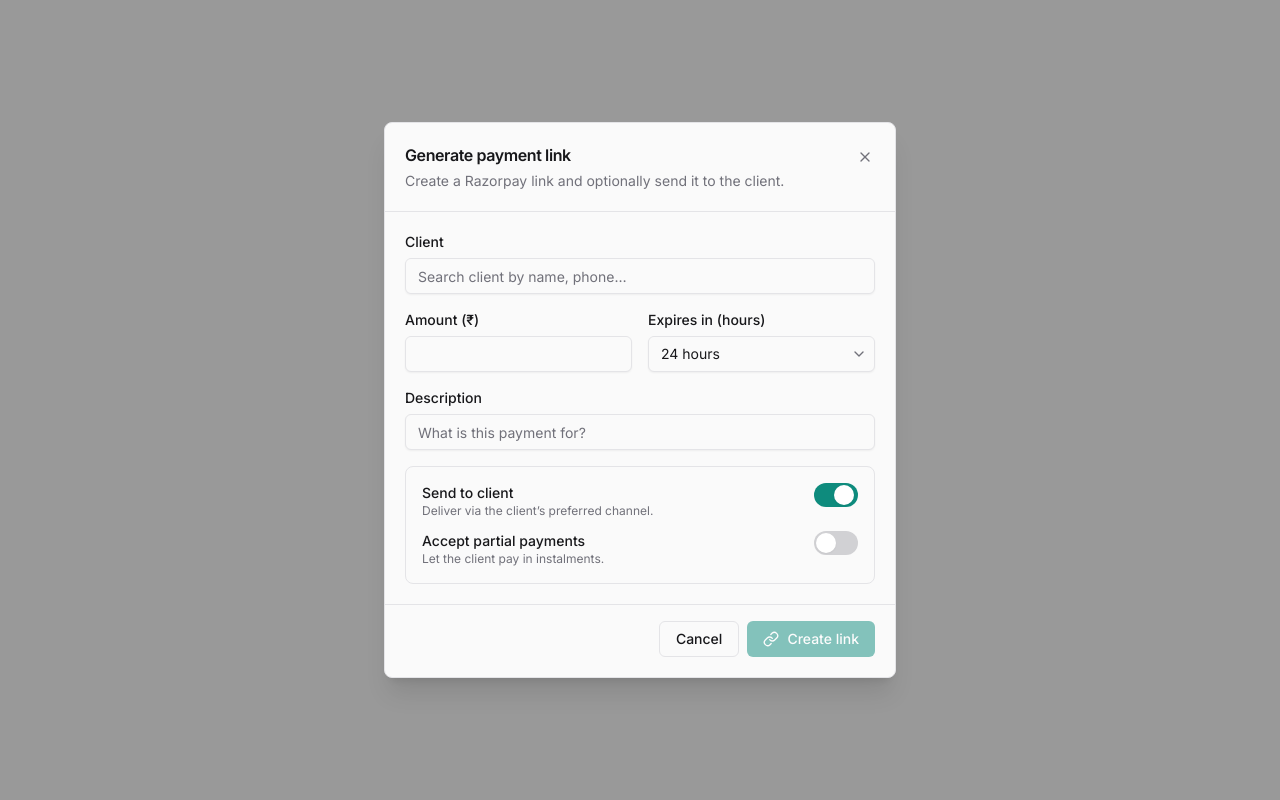
CreatePaymentLinkModal › replaces the picker with the chosen client, and Change puts it back
Type "as" into the field with placeholder "Search client by name, phone…" at (640, 276), box [405,258,875,294]
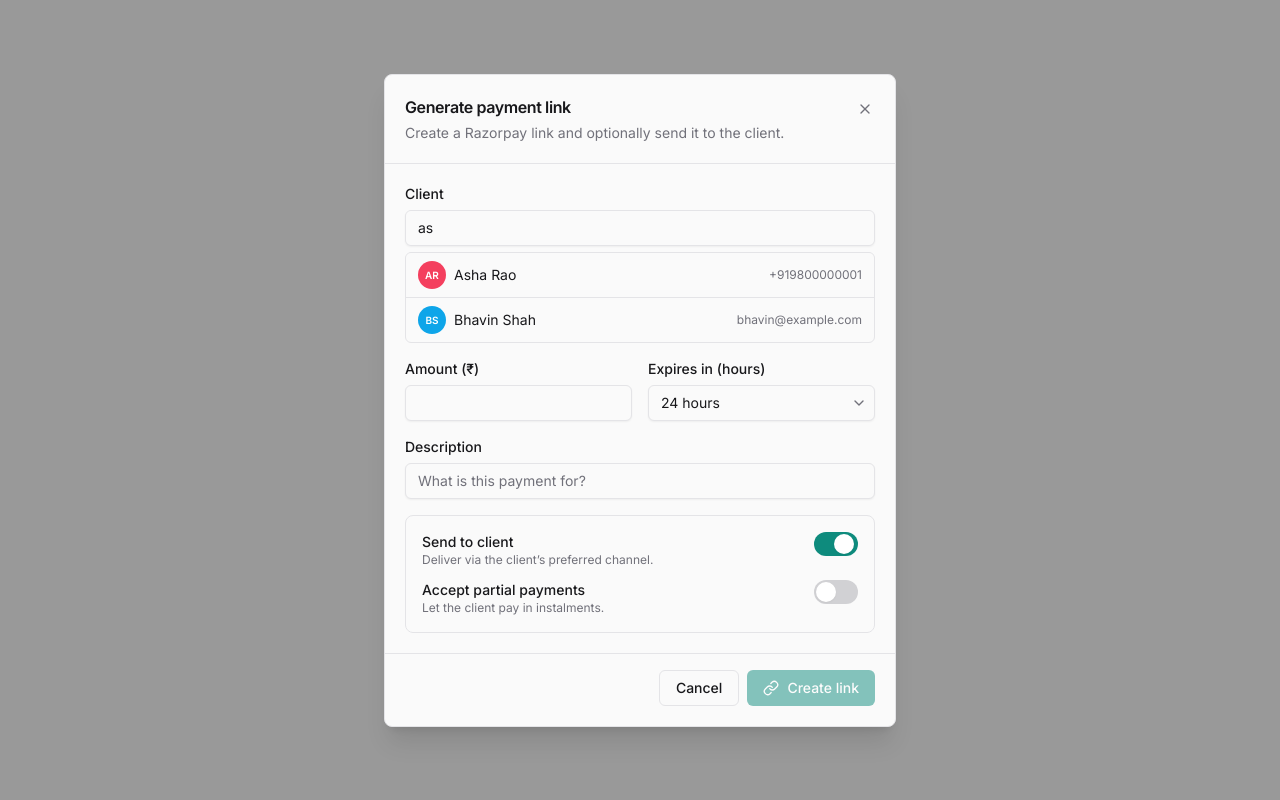
Click the text "Asha Rao" at (485, 274), box [454,264,516,284]
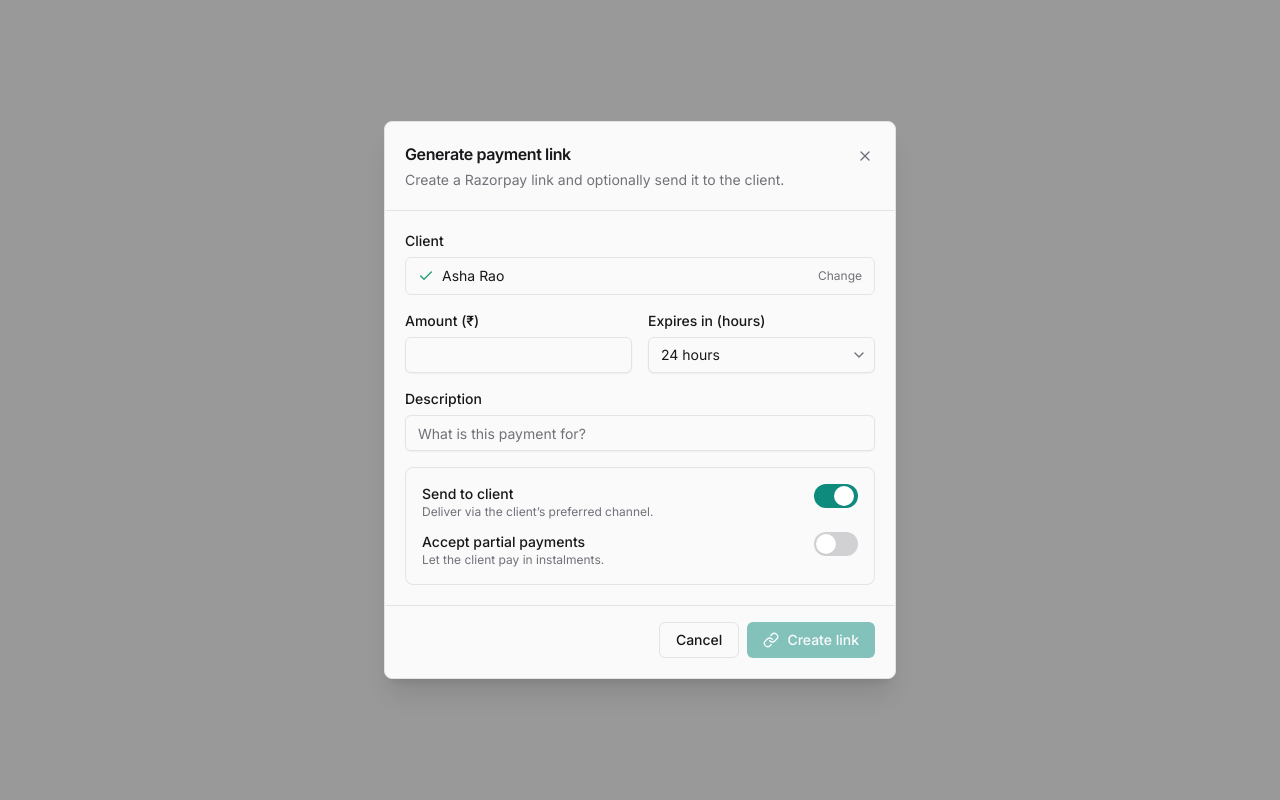
Expected: the field with placeholder "Search client by name, phone…" is not shown
Click the button "Change" at (840, 276), box [818,268,862,284]
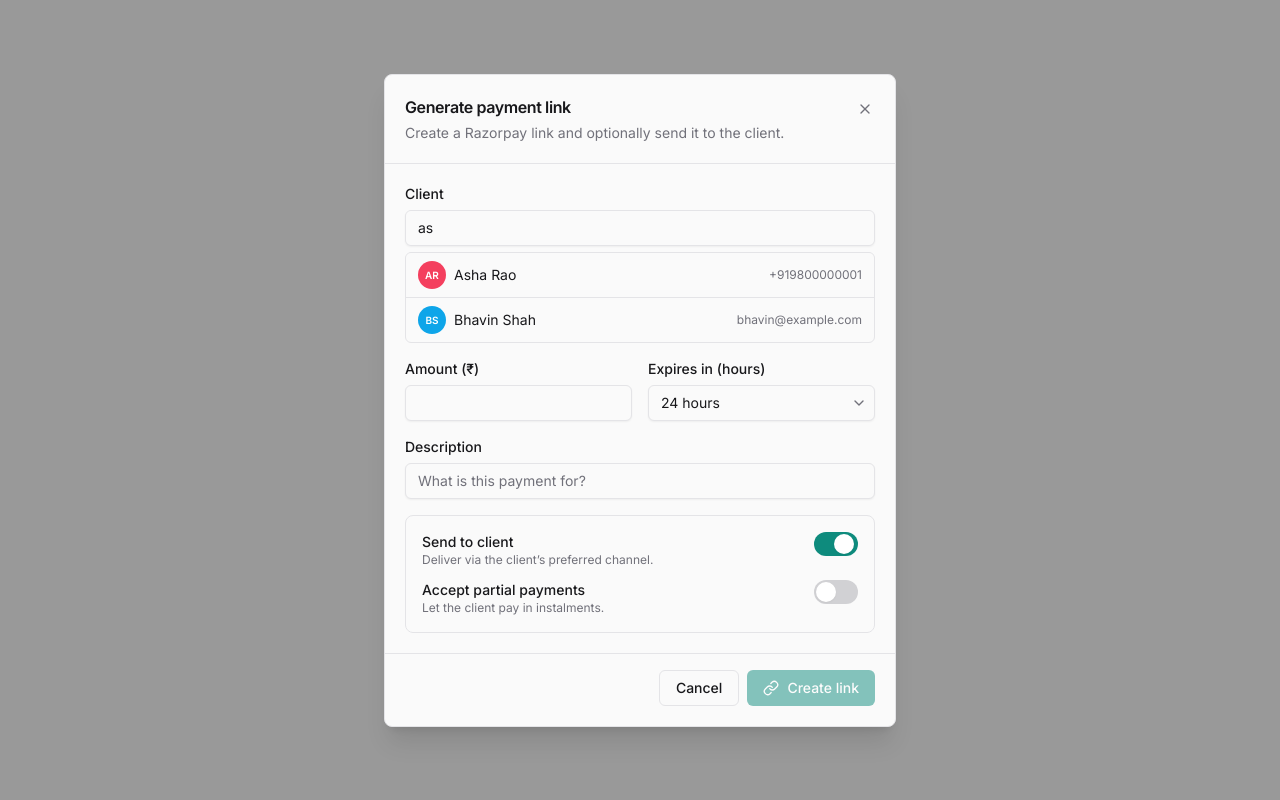
Expected: the field with placeholder "Search client by name, phone…" is shown, [405,210,875,246]
